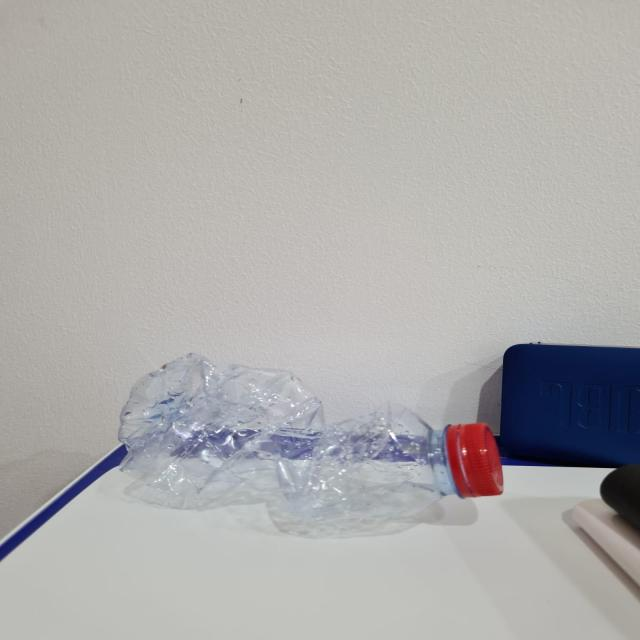bottle: (128, 346, 503, 534)
